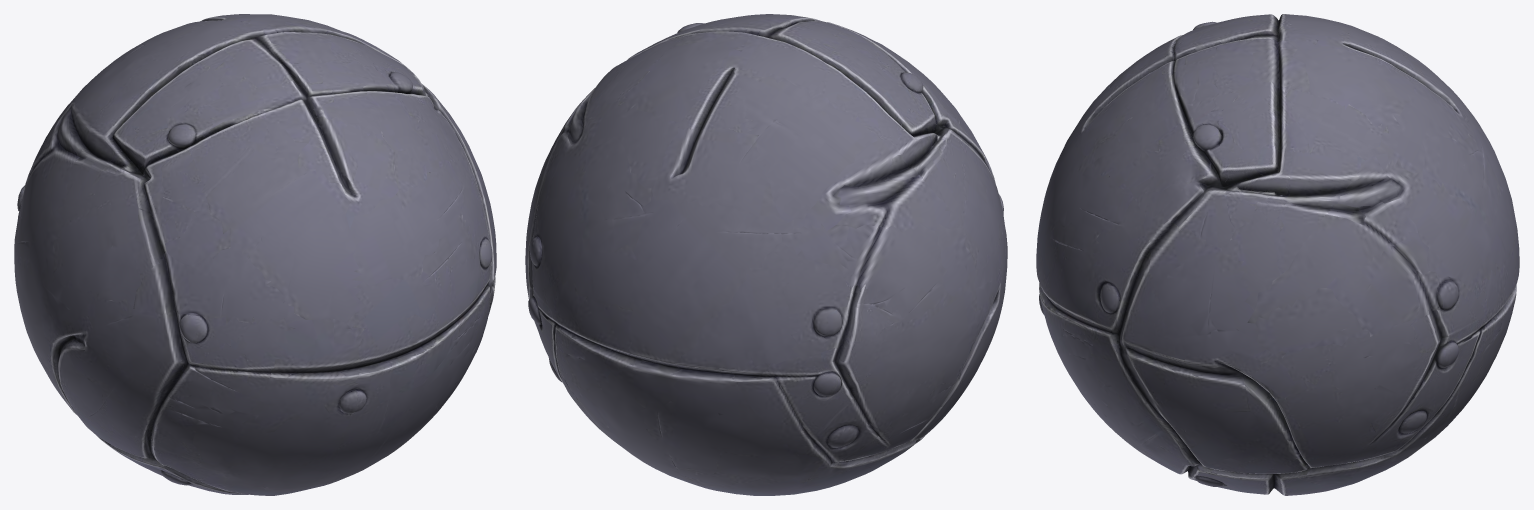
Rendered from bola-metal.glb.
The picture shows the model from 3 angles, left to right: view 1: azimuth 30°, elevation 25°; view 2: azimuth 150°, elevation 25°; view 3: azimuth 270°, elevation 25°; orthographic projection.
Bounding box in the file's own units: 1.9 × 1.9 × 1.9.
1 material, 1 textured.
